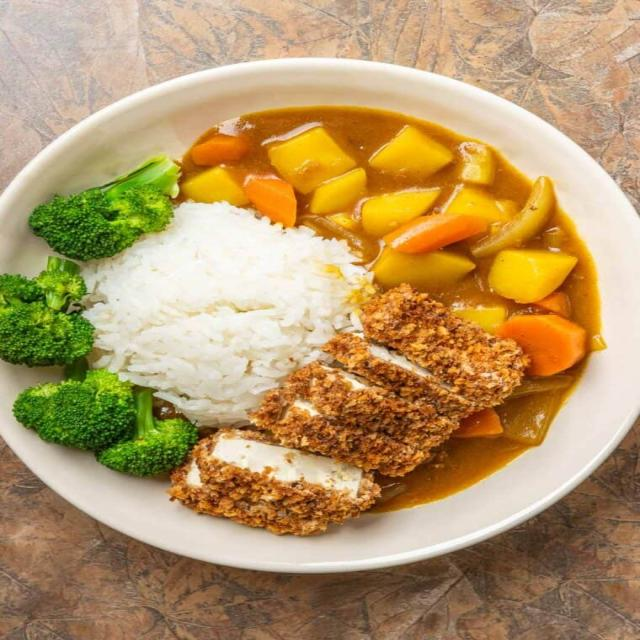Carbohydrate: (64, 197, 375, 421)
Curry: (0, 56, 640, 588)
Protein: (176, 288, 534, 530)
Vegetable: (188, 114, 596, 368), (4, 156, 197, 476)
